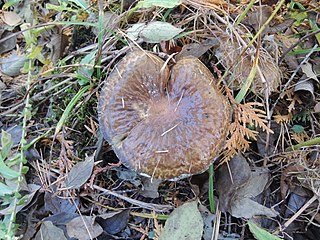boletus_poisinous: (87, 32, 251, 186)
